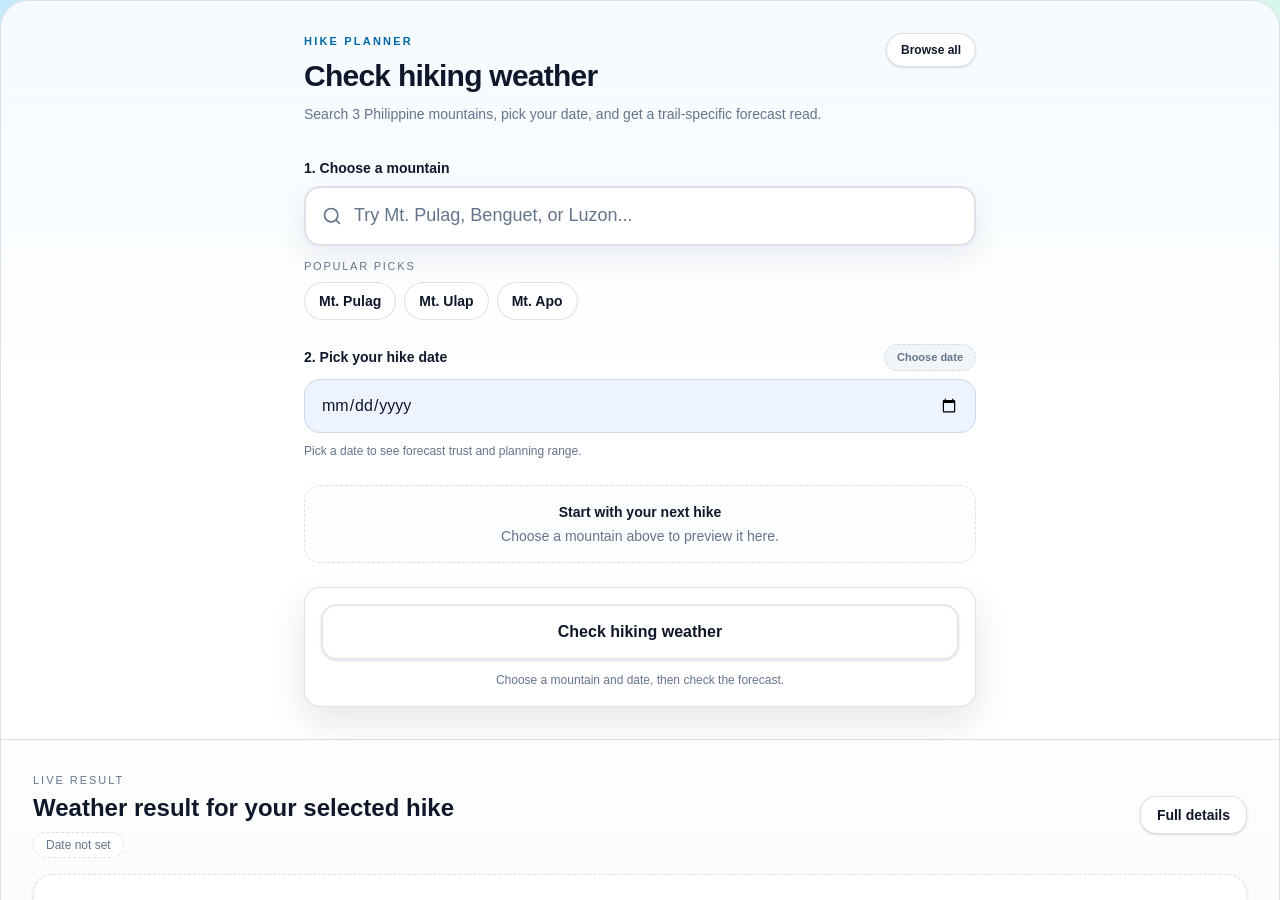
Test case: HomePlannerClient › opens a default dropdown list on focus
Expected: the text "Start with your next hike" is shown, [559,504,721,520]
Focus the dropdown named "Search mountains" at point(656, 216), box [354,188,958,244]
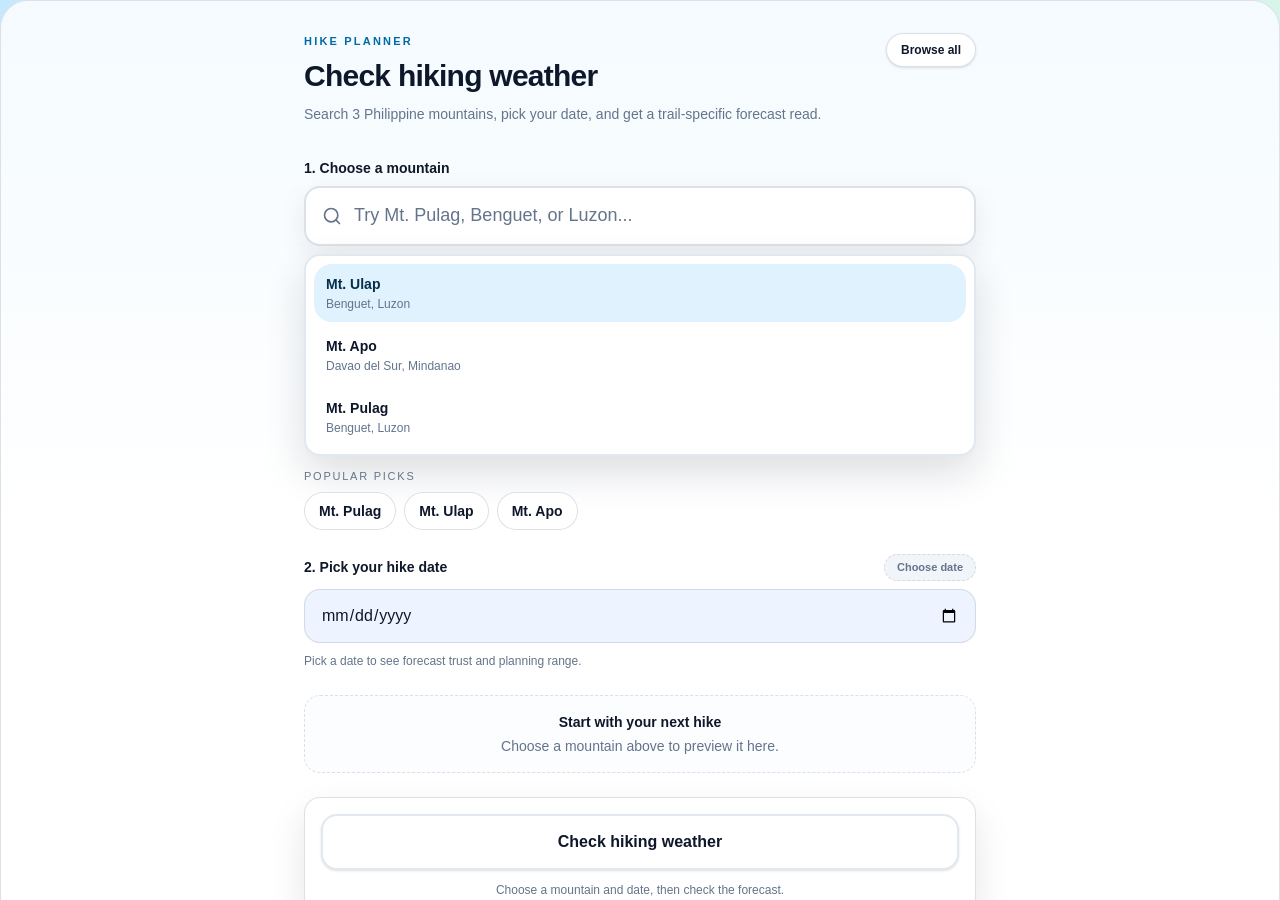
Now the option "Mt. Ulap Benguet, Luzon" is shown, box [314,264,966,322]
Now the option "Mt. Apo Davao del Sur, Mindanao" is shown, box [314,326,966,384]
